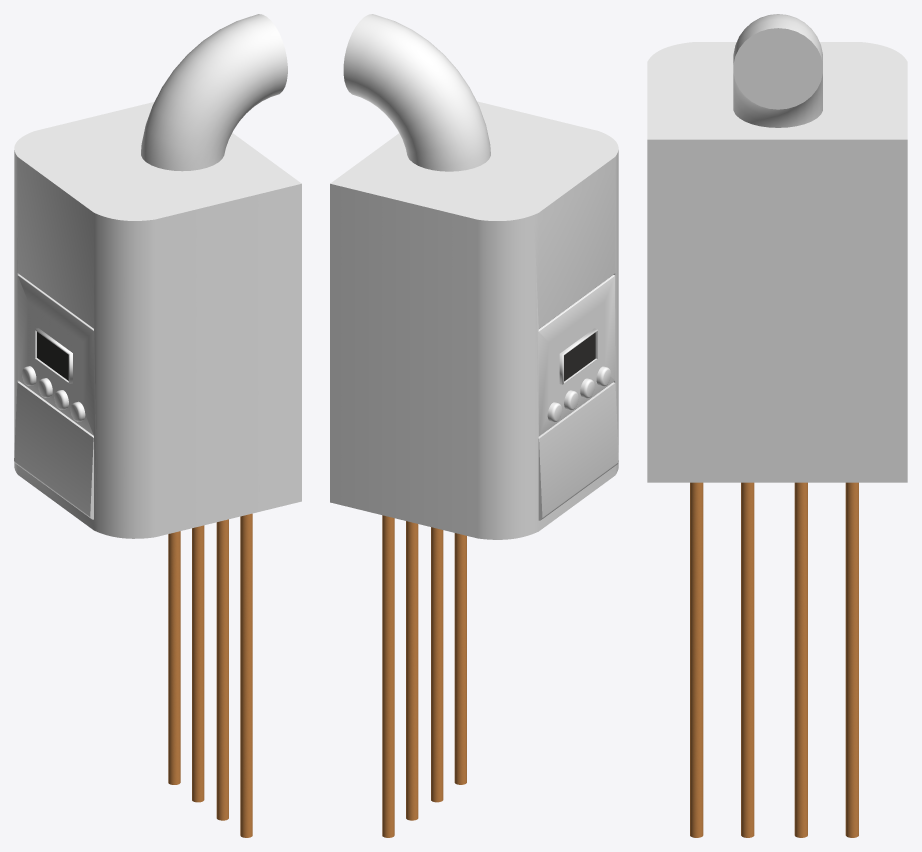
Rendered from Boiler.FBX.
The picture shows the model from 3 angles, left to right: view 1: azimuth 30°, elevation 25°; view 2: azimuth 150°, elevation 25°; view 3: azimuth 270°, elevation 25°; orthographic projection. The views are drawn at different scales.
Visible parts, largest first — view 1: Box001, Cylinder009, Cylinder007, Cylinder008, Cylinder005, Cylinder006; view 2: Box001, Cylinder009, Cylinder006, Cylinder005, Cylinder008, Cylinder007; view 3: Box001, Cylinder009, Cylinder005, Cylinder006, Cylinder007, Cylinder008.
Part boxes in pixels (<box>): Box001: <box>14,102,301,538</box>; Cylinder009: <box>141,14,287,171</box>; Cylinder007: <box>240,513,252,837</box>; Cylinder008: <box>216,519,228,820</box>; Cylinder005: <box>192,525,204,802</box>; Cylinder006: <box>168,531,180,784</box>; Box001: <box>330,101,618,539</box>; Cylinder009: <box>343,14,490,171</box>; Cylinder006: <box>382,515,394,837</box>; Cylinder005: <box>406,521,418,820</box>; Cylinder008: <box>431,527,443,802</box>; Cylinder007: <box>454,533,466,784</box>; Box001: <box>647,42,907,482</box>; Cylinder009: <box>733,14,822,127</box>; Cylinder005: <box>794,482,807,837</box>; Cylinder006: <box>845,482,858,837</box>; Cylinder007: <box>690,482,703,837</box>; Cylinder008: <box>741,482,754,837</box>.
Bounding box in the file's own units: 56.33 × 192 × 54.22.
3 materials, 3 textured.
